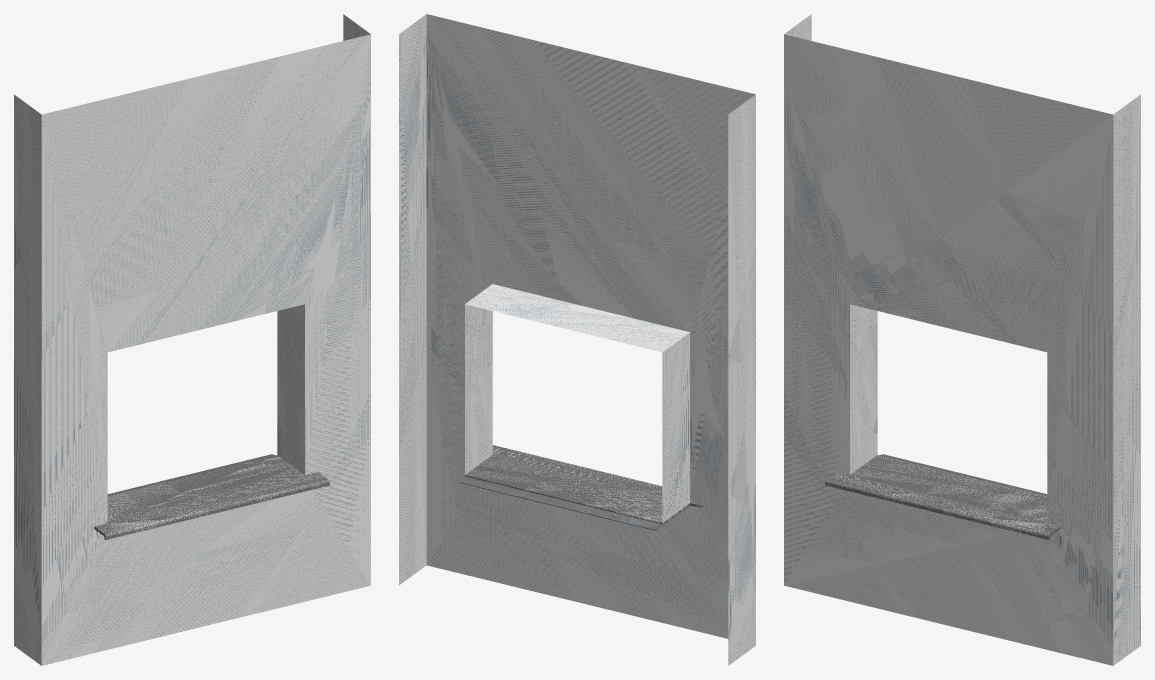
File: WindowBlock_os_[250x400]_150x124x[090].dae
The picture shows the model from 3 angles, left to right: view 1: azimuth 30°, elevation 25°; view 2: azimuth 150°, elevation 25°; view 3: azimuth 330°, elevation 25°; orthographic projection.
Parts seen in each view (by area): view 1: group_2 (×2), group_1; view 2: group_2 (×2), group_1 (×2); view 3: group_2 (×2), group_1.
Part boxes in pixels (left/top/right/bottom): group_2 (×2): left=14, top=14, right=370, bottom=665; group_1: left=94, top=455, right=329, bottom=539; group_2 (×2): left=399, top=14, right=755, bottom=665; group_1 (×2): left=459, top=445, right=702, bottom=530; group_2 (×2): left=784, top=14, right=1140, bottom=665; group_1: left=825, top=455, right=1059, bottom=539.
Size of the model in its own units: 98.43 by 23.03 by 157.
